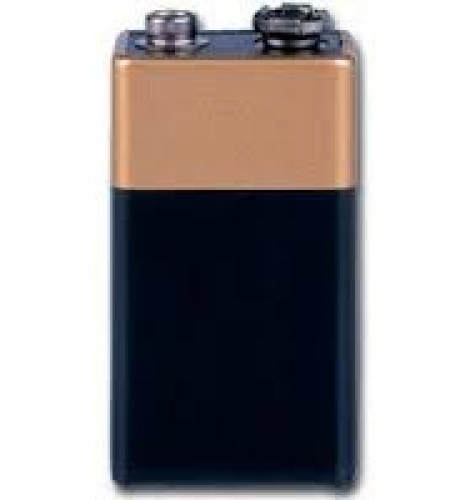9V: (100, 6, 371, 495)
